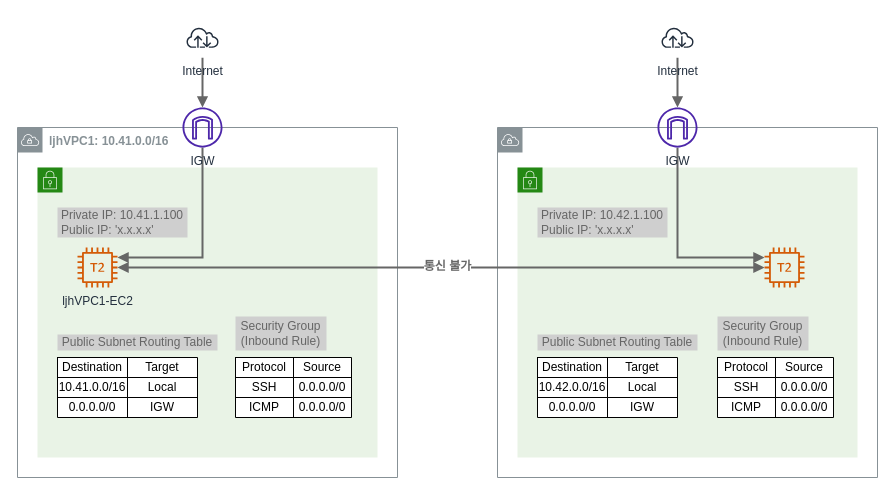
This 895x495 diagram has some shape labels left out. Here are the shapes that lost their labels. From the top down, the box of each, then its label:
(764, 247, 804, 287): ljhVPC2-EC2
(36, 166, 378, 458): Public subnet: 10.41.1.0/24
(496, 126, 878, 478): ljhVPC2: 10.42.0.0/16
(516, 166, 858, 458): Public subnet: 10.42.1.0/24
